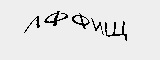И: (89, 17, 105, 37)
Л: (22, 12, 40, 34)
Ф: (44, 9, 69, 27), (71, 12, 90, 30)
Щ: (102, 19, 130, 40)
